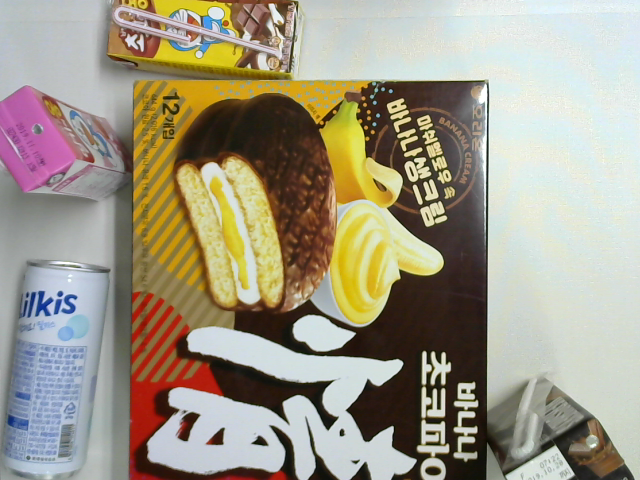Choco_E_Mong: (107, 1, 308, 82)
Choco_Pie_Banana: (132, 80, 489, 480)
Hush_Choco_Drink: (487, 377, 631, 480)
Milkies_250ml: (1, 260, 111, 479)
Strawberry_E_Mong: (1, 86, 134, 200)
